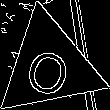O_N: (21, 35, 76, 97)
